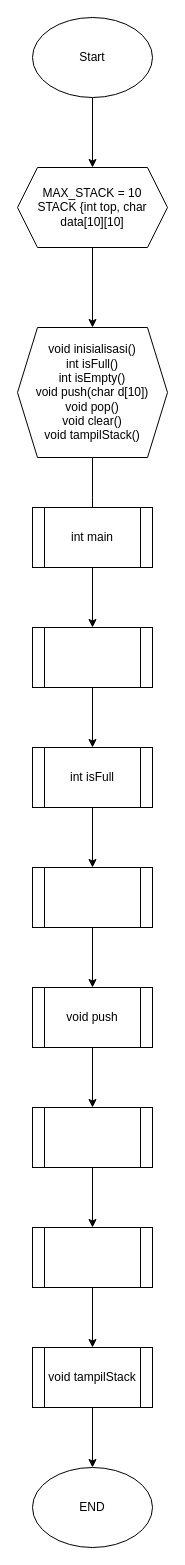
Some shapes in this 185 by 1565 pixel diagram are drawn without their labels. The shapes that lost their labels are listed below. From the top down, each one's centre as x and y in pixels, then its label:
pixel 92 657: void inisialisasi
pixel 92 897: int isEmpty
pixel 92 1137: void pop
pixel 92 1257: void clear
